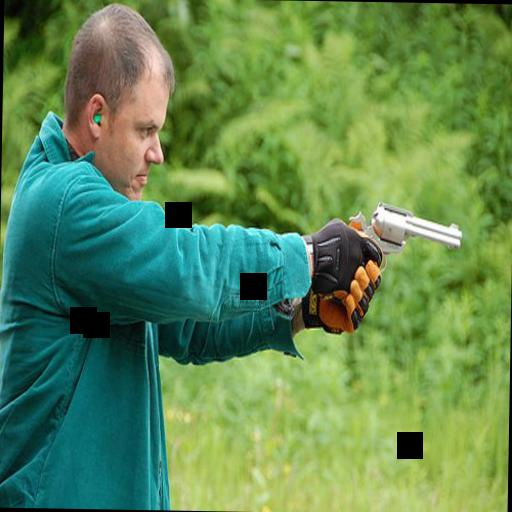Handgun: (322, 202, 463, 304)
